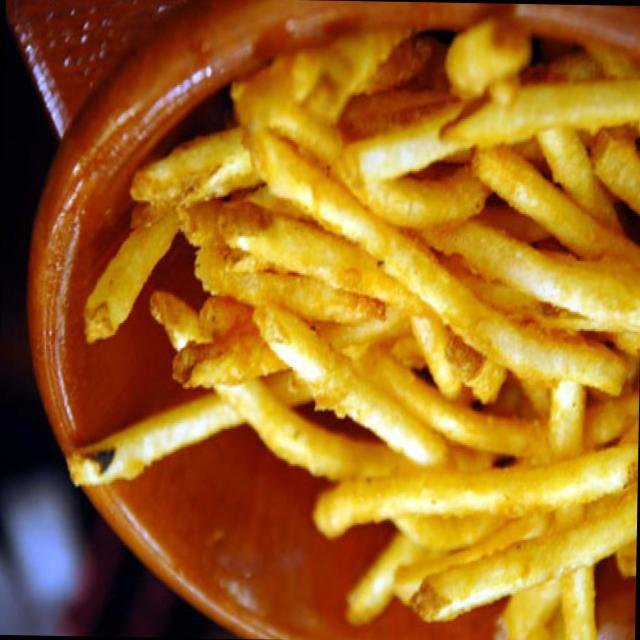French Fries: (132, 57, 640, 640)
